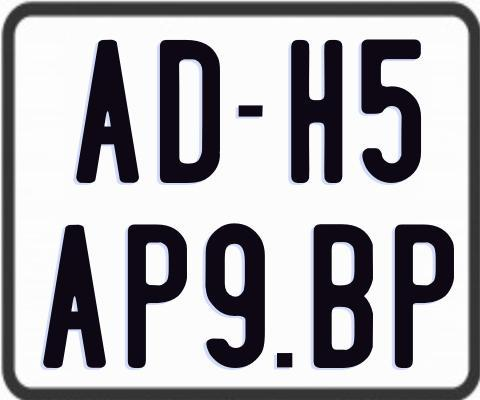5: (361, 39, 422, 184)
9: (202, 220, 267, 366)
A: (75, 37, 141, 181), (40, 224, 103, 372)
B: (311, 222, 375, 370)
D: (159, 38, 219, 184)
H: (288, 39, 344, 184)
P: (126, 223, 190, 370), (392, 222, 452, 367)
